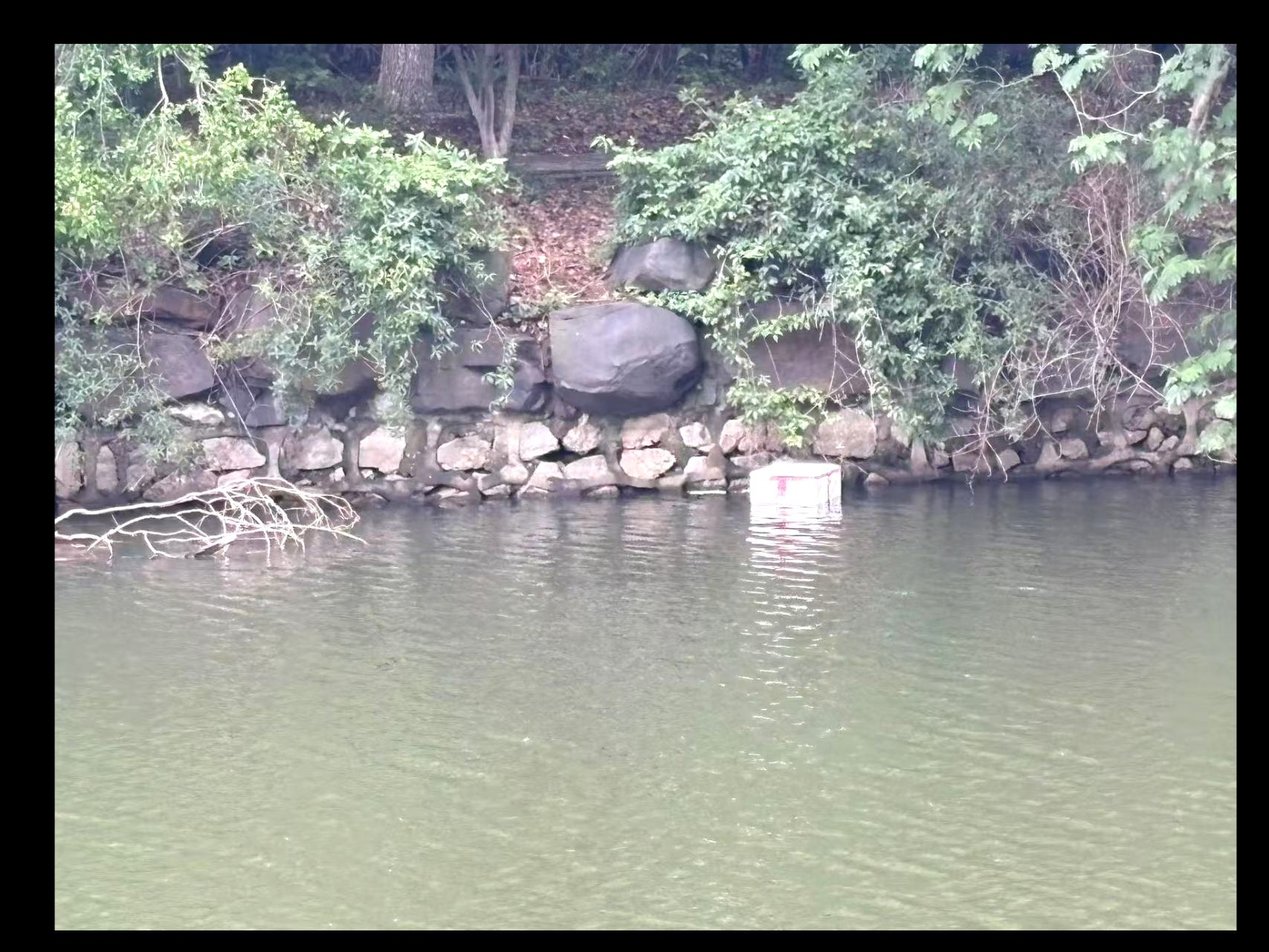Plastic wastes: (743, 457, 851, 522)
